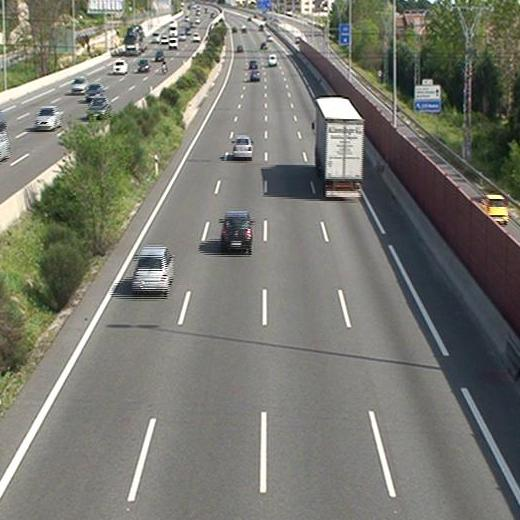car: (132, 246, 174, 292), (221, 213, 252, 250), (233, 135, 254, 158), (250, 69, 260, 80), (248, 59, 258, 68)
truck: (315, 98, 361, 196)
van: (268, 54, 277, 66)
